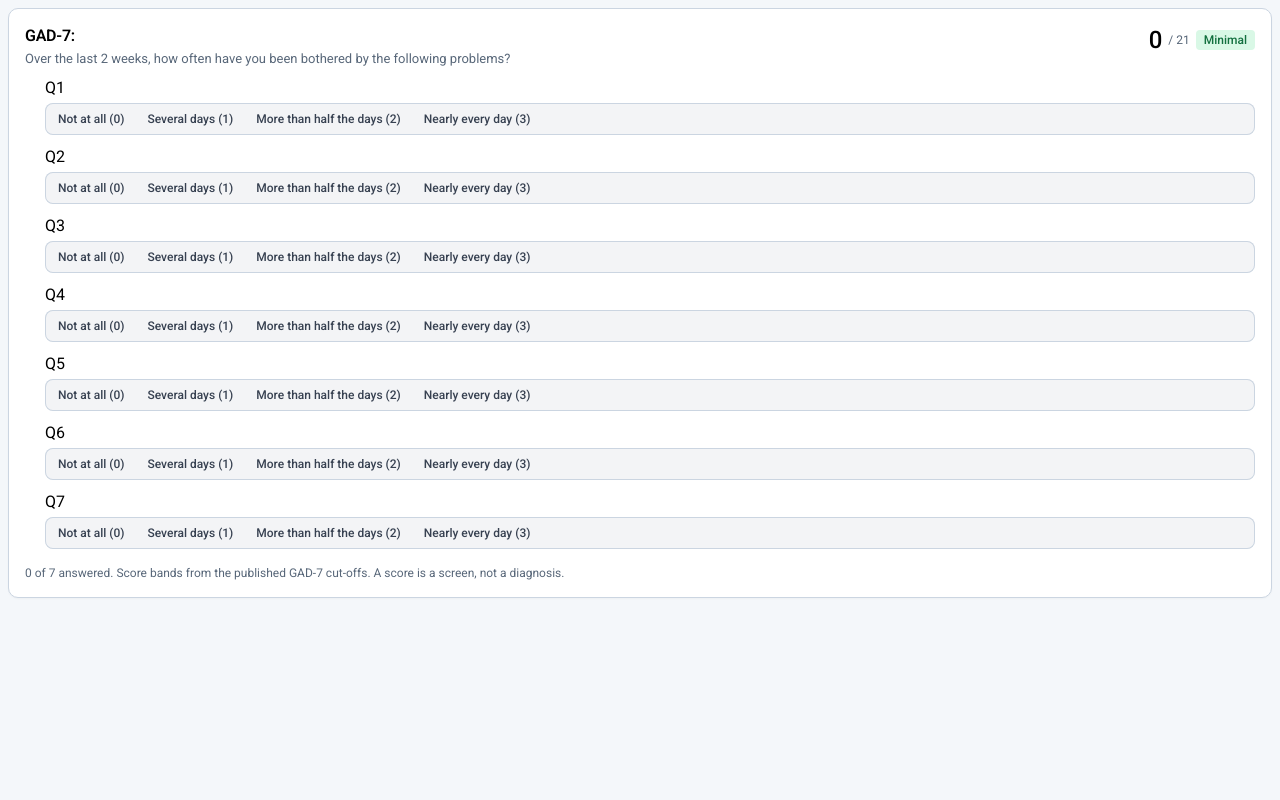
Test: ScoreQuestionnaire › updates the score when an answer is chosen
Click the 1st radio button labelled "Nearly every day (3)" at (477, 119), box [414,106,540,132]
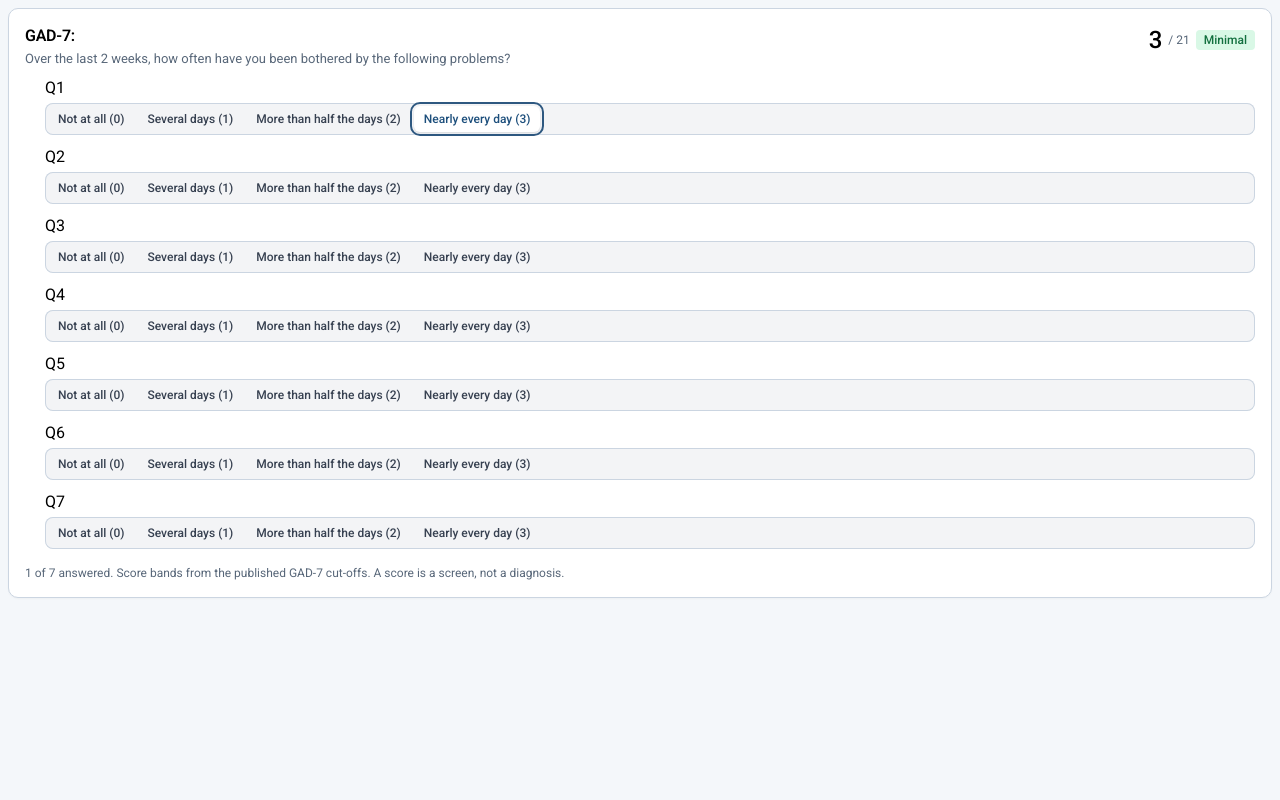
Expected: the text "3" is shown, [1149,25,1162,55]
